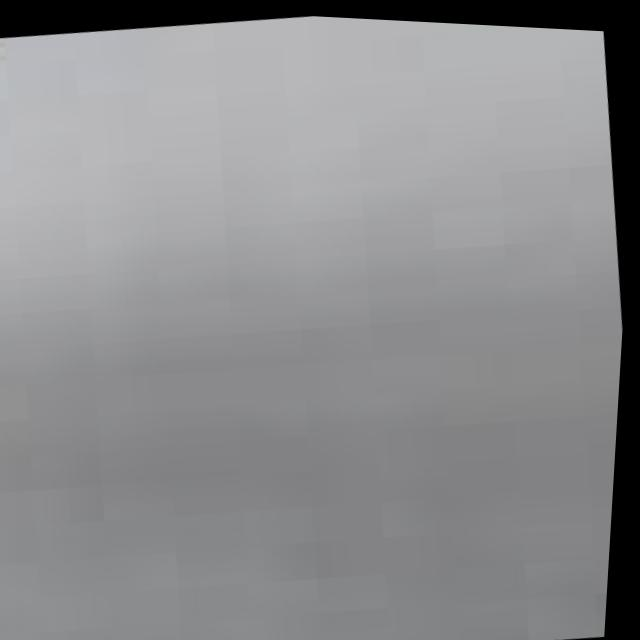metal-plates: (1, 13, 627, 640)
